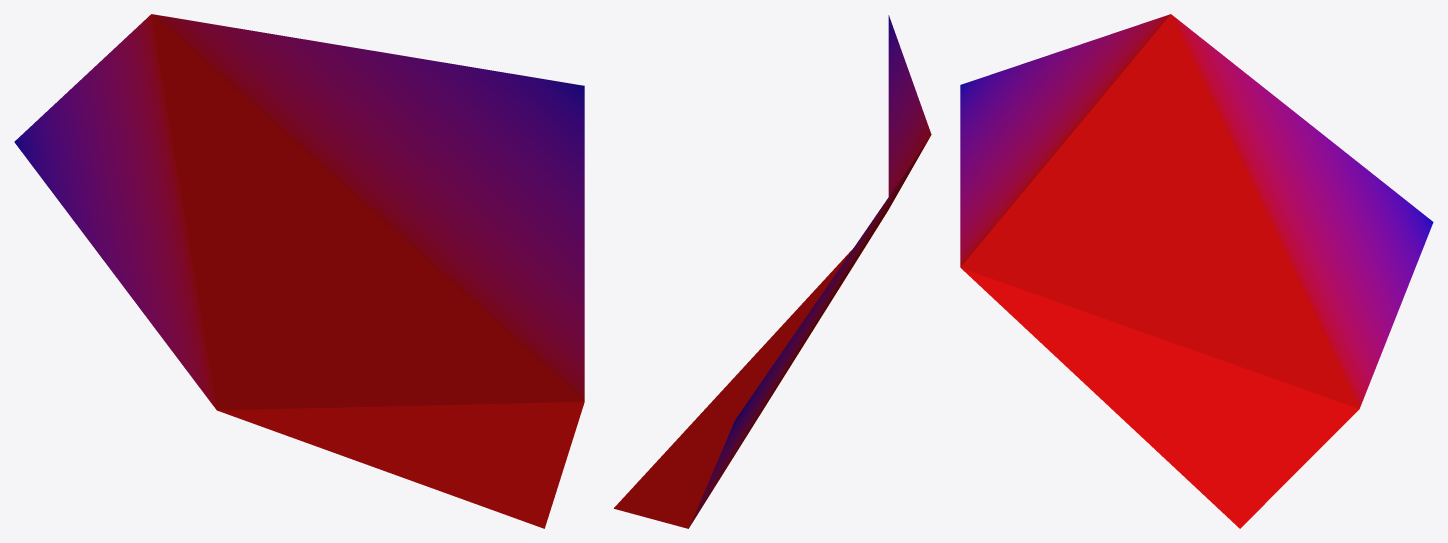
The model's file is border_patch_7.obj.
3 views of the same model, side by side, from view 1: azimuth 30°, elevation 25°; view 2: azimuth 150°, elevation 25°; view 3: azimuth 270°, elevation 25° (orthographic). The views are drawn at different scales.
Size of the model in its own units: 0.9272 by 1.31 by 1.45.
